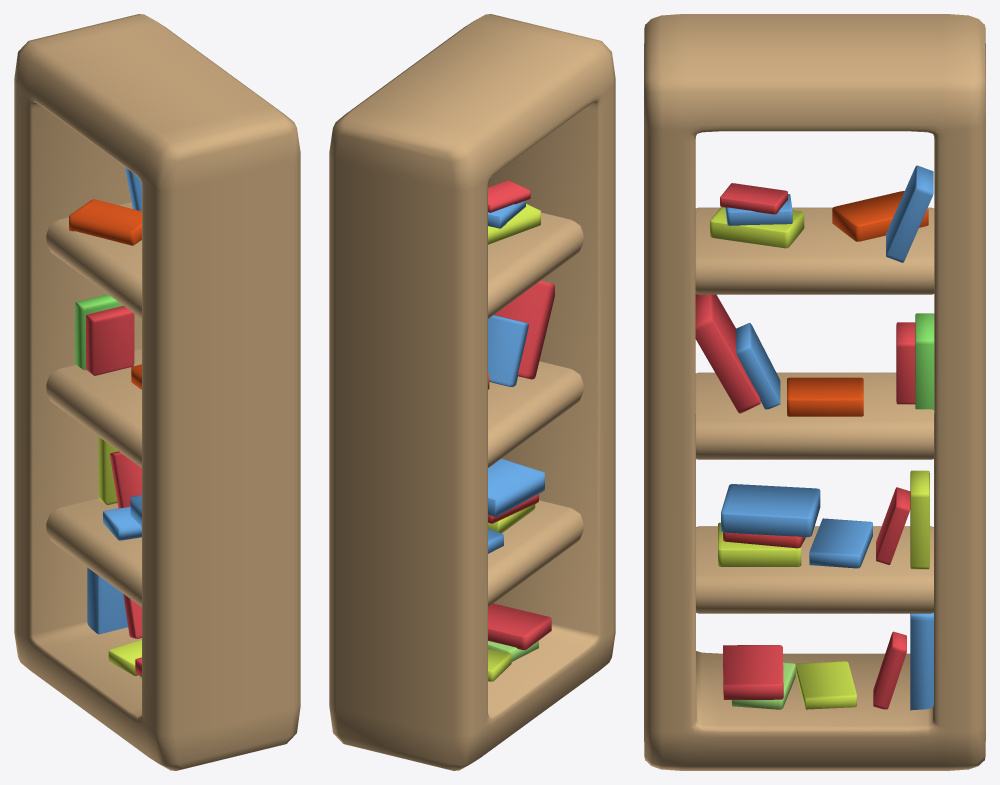
File: 3DModel_LElement_Text.glb
The picture shows the model from 3 angles, left to right: view 1: azimuth 30°, elevation 25°; view 2: azimuth 150°, elevation 25°; view 3: azimuth 270°, elevation 25°; orthographic projection. The views are drawn at different scales.
Visible parts, largest first — view 1: Shelf.001, Book.052, Book.051, Book.053, Book.057, Book.067, Book.071, Book.063, Book.055, Book.062, Book.069, Book.070 (+1 smaller); view 2: Shelf.001, Book.052, Book.053, Book.051, Book.054, Book.061, Book.056, Book.074, Book.064, Book.066, Book.070, Book.065; view 3: Shelf.001, Book.052, Book.053, Book.051, Book.061, Book.054, Book.074, Book.058, Book.069, Book.070, Book.068, Book.067 (+13 smaller).
Boxes of the visible parts, box(x1,y1,x2,y2) form: Shelf.001: box(14, 14, 300, 770); Book.052: box(46, 349, 141, 467); Book.051: box(46, 498, 141, 606); Book.053: box(46, 202, 141, 318); Book.057: box(86, 305, 134, 375); Book.067: box(69, 199, 141, 245); Book.071: box(87, 567, 128, 634); Book.063: box(110, 451, 141, 508); Book.055: box(75, 294, 122, 370); Book.062: box(98, 436, 118, 505); Book.069: box(103, 506, 141, 540); Book.070: box(108, 639, 141, 675); Shelf.001: box(329, 14, 615, 770); Book.052: box(488, 361, 583, 467); Book.053: box(488, 212, 583, 318); Book.051: box(488, 500, 583, 606); Book.054: box(494, 280, 554, 379); Book.061: box(488, 458, 544, 516); Book.056: box(488, 315, 528, 386); Book.074: box(488, 603, 551, 649); Book.064: box(488, 203, 540, 244); Book.066: box(488, 180, 530, 212); Book.070: box(488, 649, 511, 681); Book.065: box(488, 200, 525, 228); Shelf.001: box(644, 14, 985, 770); Book.052: box(695, 372, 934, 459); Book.053: box(695, 207, 934, 294); Book.051: box(696, 526, 933, 613); Book.061: box(721, 484, 820, 537); Book.054: box(695, 294, 760, 413); Book.074: box(723, 645, 783, 699); Book.058: box(787, 377, 863, 416); Book.069: box(809, 518, 872, 568); Book.070: box(796, 661, 856, 709); Book.068: box(886, 165, 933, 262); Book.067: box(832, 191, 928, 241).
Bounding box in the file's own units: 0.4764 × 2 × 0.89.
